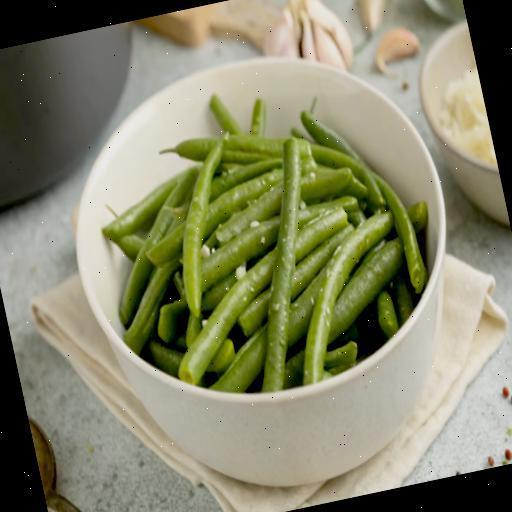buncis_rebus: (66, 32, 462, 418)
